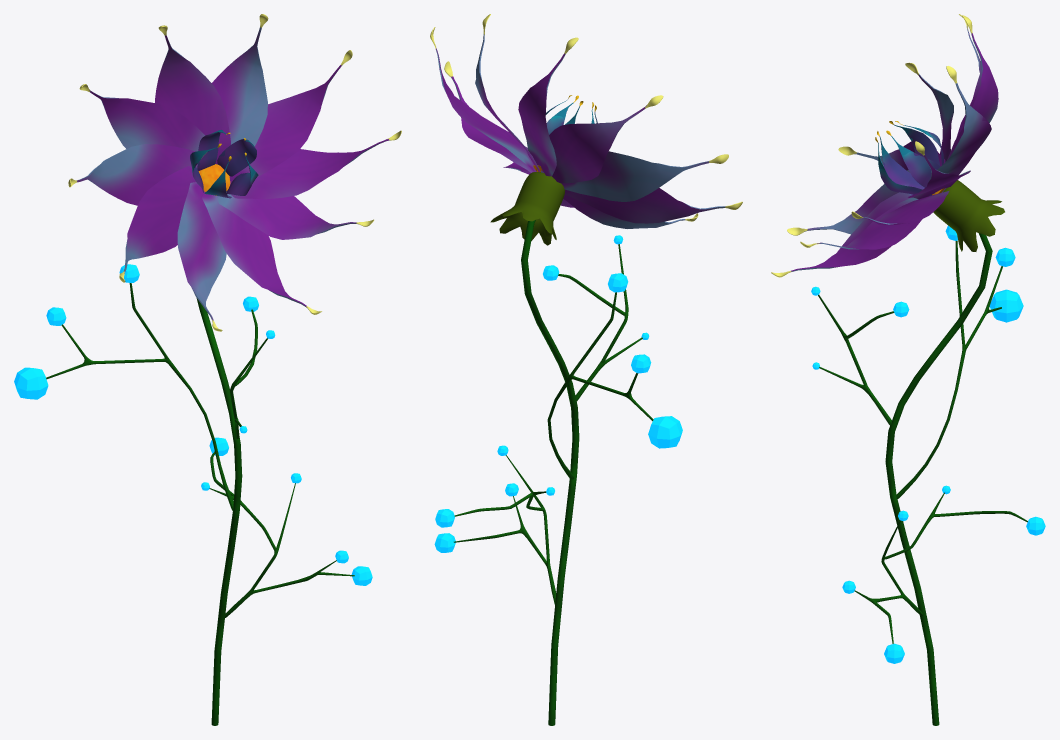
3 renders of one model, left to right at view 1: azimuth 30°, elevation 25°; view 2: azimuth 150°, elevation 25°; view 3: azimuth 270°, elevation 25°, orthographic. The views are drawn at different scales.
Visible parts, largest first — view 1: Flower; view 2: Flower; view 3: Flower.
Part boxes in pixels (box(x1,y1,x2,y2)): Flower: box(14, 14, 401, 725); Flower: box(430, 14, 742, 725); Flower: box(771, 14, 1045, 725).
Size of the model in its own units: 0.6384 by 1.38 by 0.4979.
Materials: 1 (1 with a texture image).
